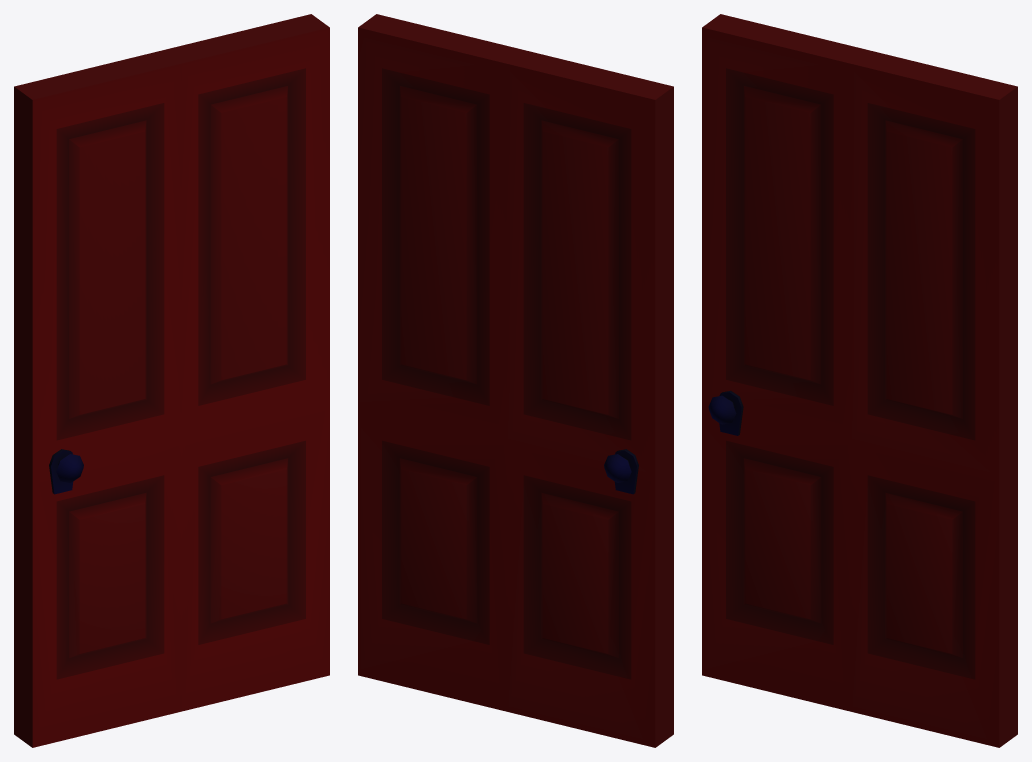
Rendered from Door.glb.
3 renders of one model, left to right at view 1: azimuth 30°, elevation 25°; view 2: azimuth 150°, elevation 25°; view 3: azimuth 330°, elevation 25°, orthographic.
Visible parts, largest first — view 1: Door; view 2: Door; view 3: Door.
Part boxes in pixels (x1,y1,x2,y2): Door: (14,14,329,747); Door: (358,14,673,747); Door: (702,14,1017,747).
Bounding box in the file's own units: 3.25 × 6.76 × 0.8778.
